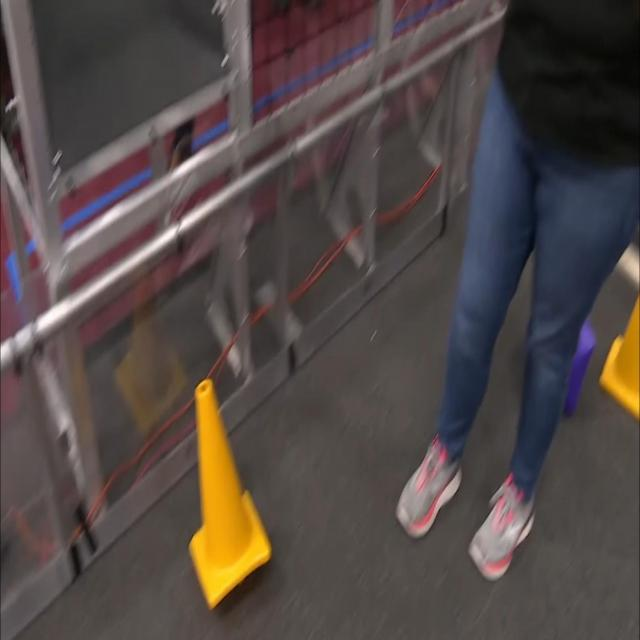frc_cone: (186, 383, 270, 614), (599, 245, 640, 428)
frc_cube: (565, 316, 595, 414)
